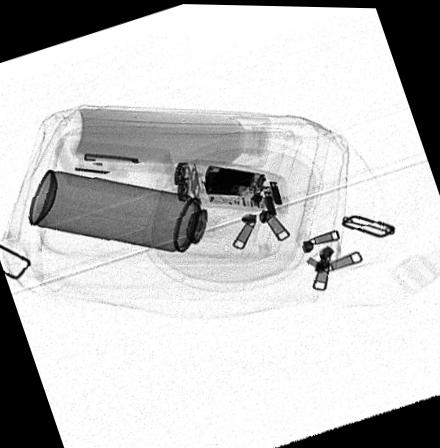Sprayer: (28, 169, 241, 257)
